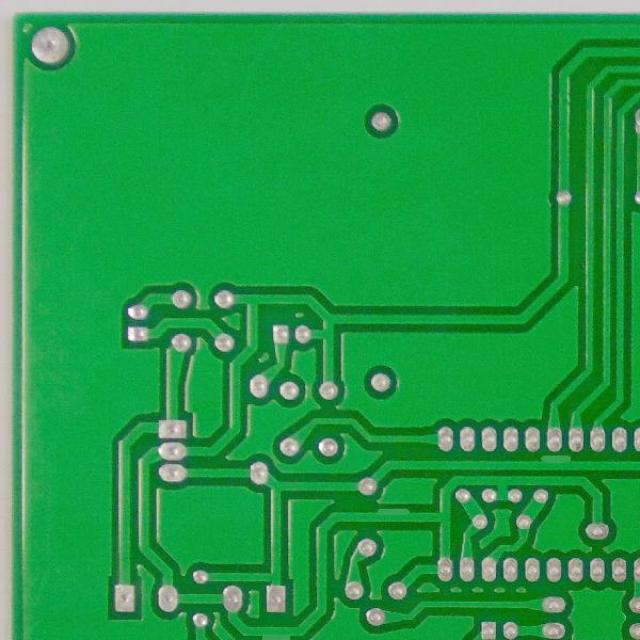Spur: (371, 502, 415, 527), (536, 450, 577, 474), (256, 621, 298, 639)
